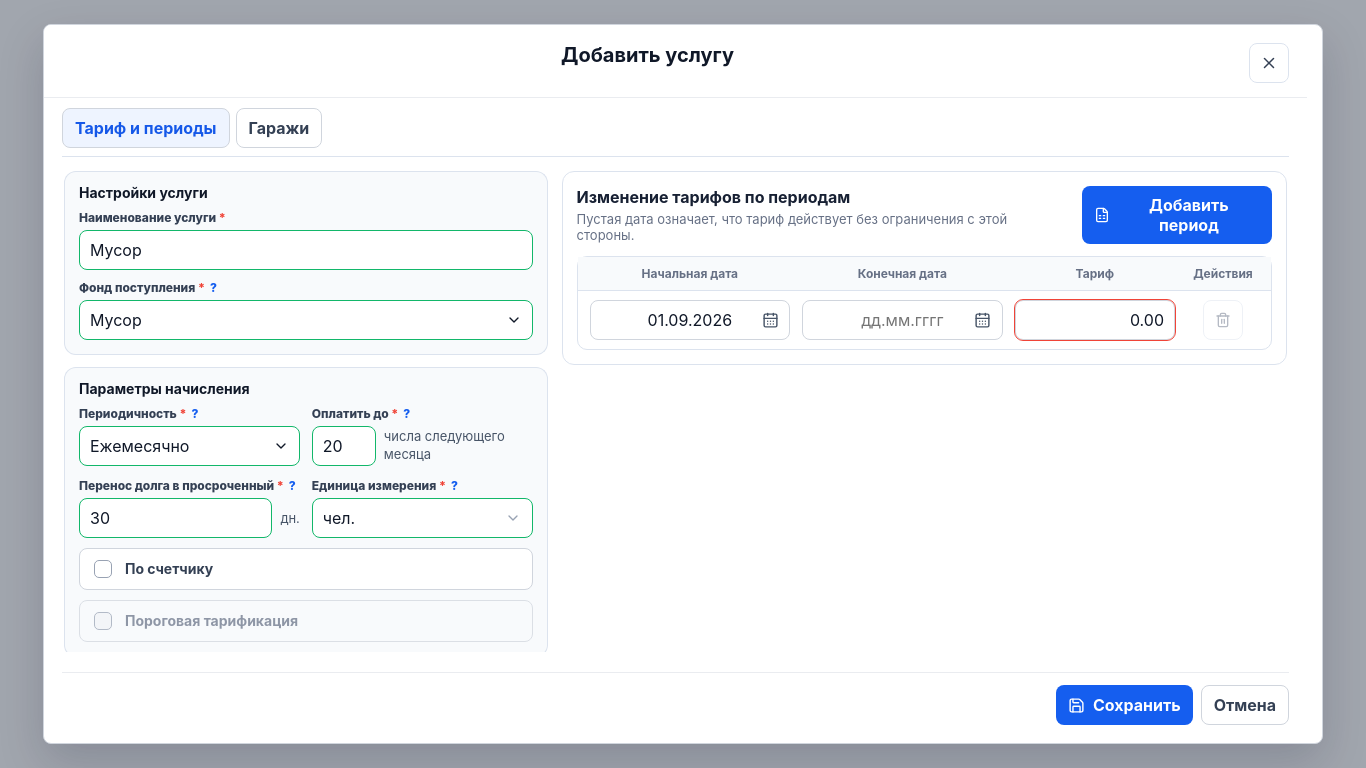
Test: редактор тарифной сетки услуги › validates each visible period instead of an absent linked rate
Step 1. Click the button "Сохранить" → (1124, 705), box x1=1056 y1=685 x2=1193 y2=725
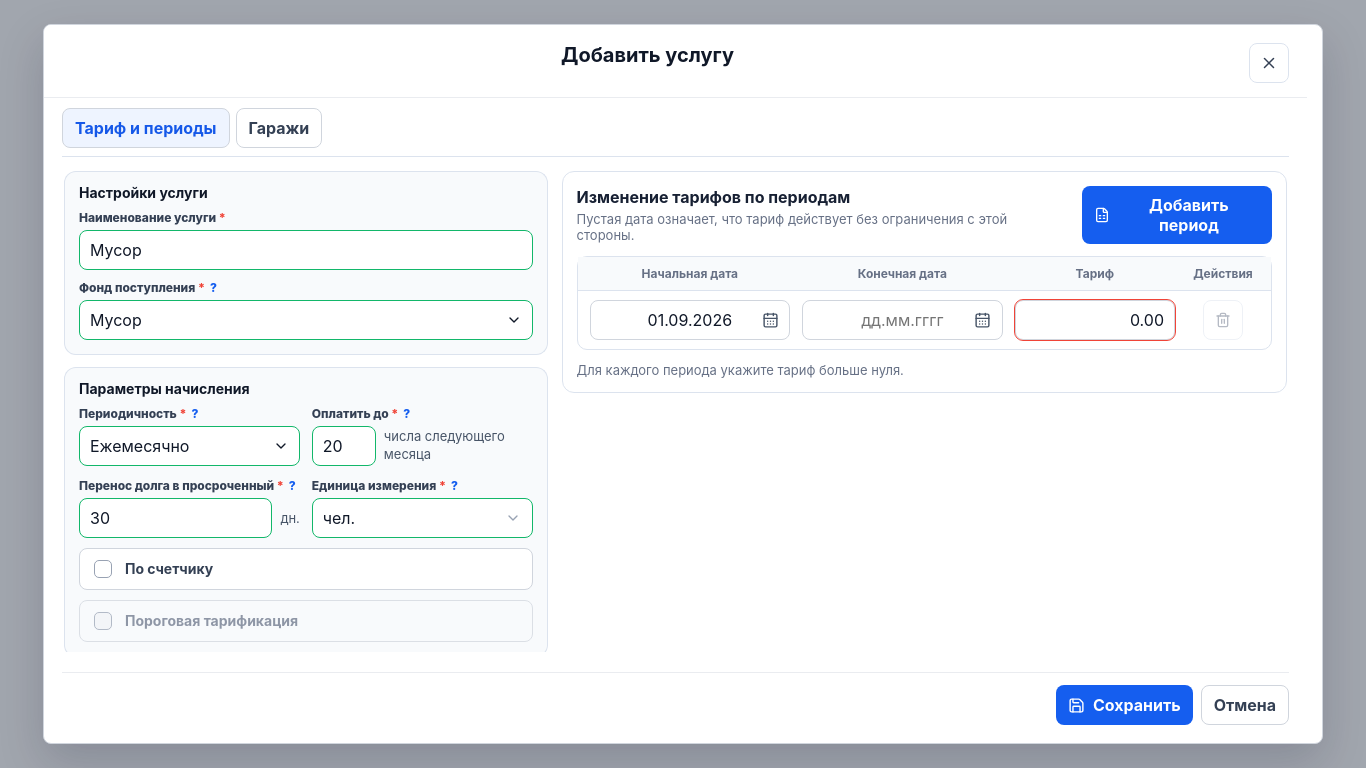
Check: the text "Для каждого периода укажите тариф больше нуля." is shown, box x1=577 y1=362 x2=904 y2=378
